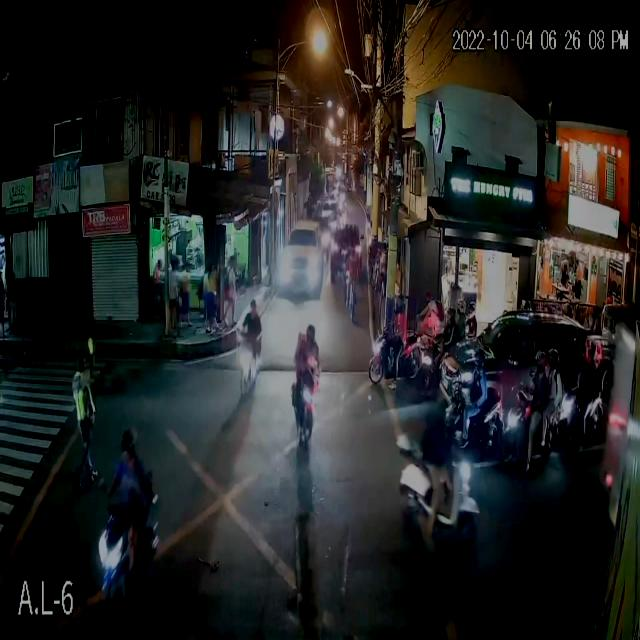Full-Faced: (303, 326, 317, 347)
Invalid: (117, 424, 139, 462)
Not-Wearing-Helmet: (248, 298, 255, 316)
